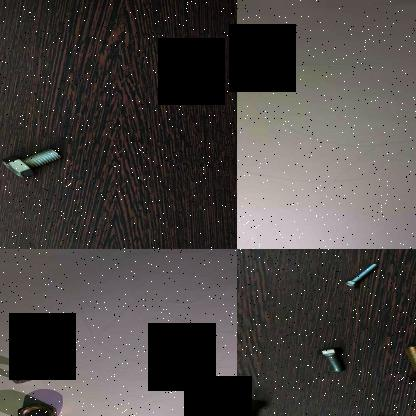Bolts: (0, 146, 64, 178), (336, 262, 382, 288), (316, 342, 352, 375), (394, 337, 416, 384), (237, 395, 269, 416)
NUTS: (3, 398, 75, 416), (4, 359, 46, 387)
